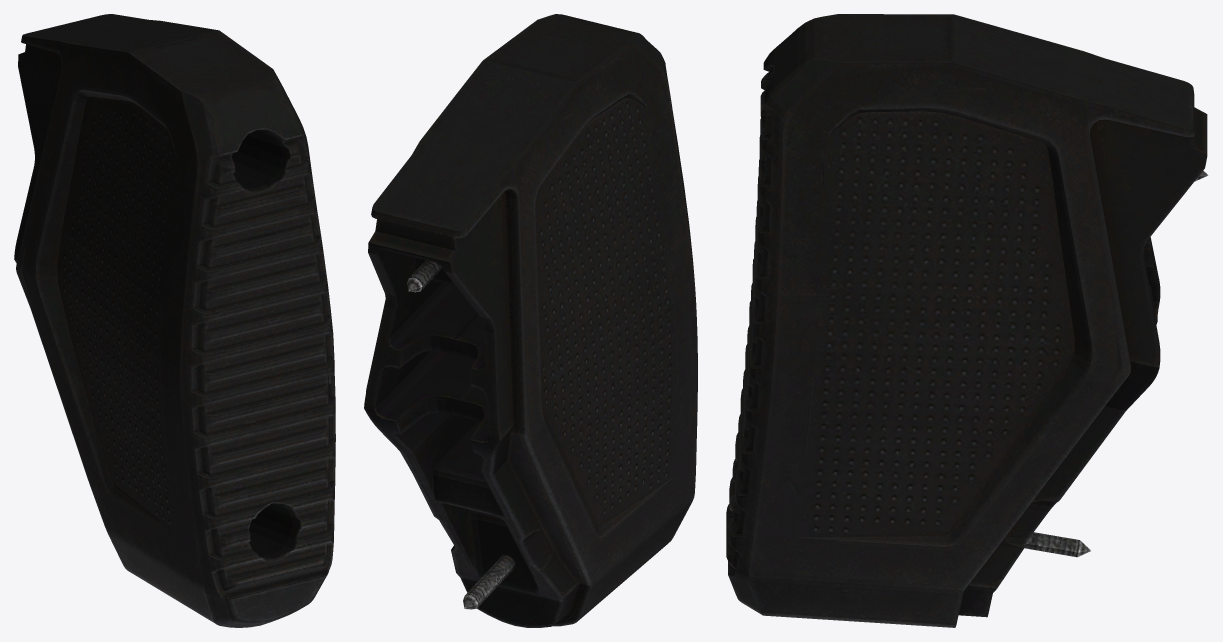
3 renders of one model, left to right at view 1: azimuth 30°, elevation 25°; view 2: azimuth 150°, elevation 25°; view 3: azimuth 270°, elevation 25°, orthographic. The views are drawn at different scales.
Visible parts, largest first — view 1: TW_606f263a8900dc2d9a55b68d_PZ_Import; view 2: TW_606f263a8900dc2d9a55b68d_PZ_Import; view 3: TW_606f263a8900dc2d9a55b68d_PZ_Import.
Part boxes in pixels (x1,y1,x2,y2): TW_606f263a8900dc2d9a55b68d_PZ_Import: (14,14,335,627); TW_606f263a8900dc2d9a55b68d_PZ_Import: (364,14,697,627); TW_606f263a8900dc2d9a55b68d_PZ_Import: (726,14,1208,627).
Size of the model in its own units: 0.0257 by 0.0642 by 0.0851.
Materials: 1 (1 with a texture image).
